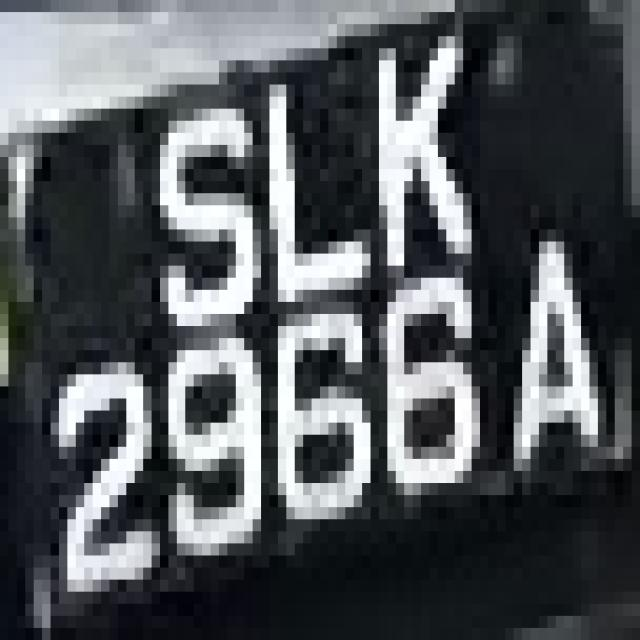2: (25, 326, 160, 592)
6: (252, 278, 370, 568), (362, 266, 489, 531)
9: (160, 302, 278, 580)
A: (480, 181, 632, 483)
K: (362, 24, 505, 254)
L: (236, 72, 370, 314)
S: (152, 84, 261, 314)
